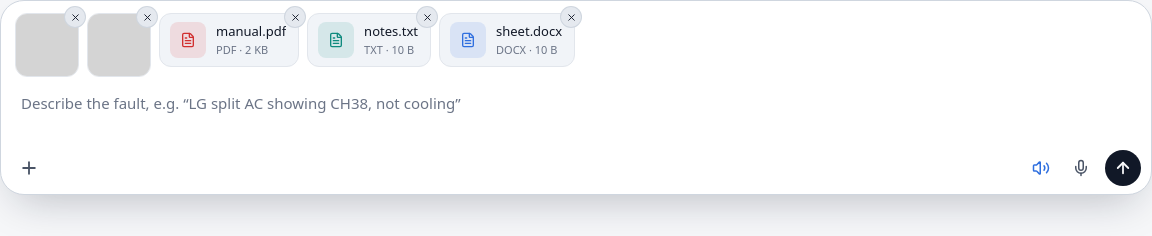
Test: attach menu › attaches several images and documents, shows them, removes one, and sends them
This screenshot has width=1152, height=236.
Earlier steps of the test are not shown.
expect the text "manual.pdf" is shown: met, box [216, 22, 286, 42]
expect the text "PDF · 2 KB" is shown: met, box [216, 42, 268, 56]
Click the button named "Remove notes.txt" at (427, 17), box [417, 7, 437, 27]
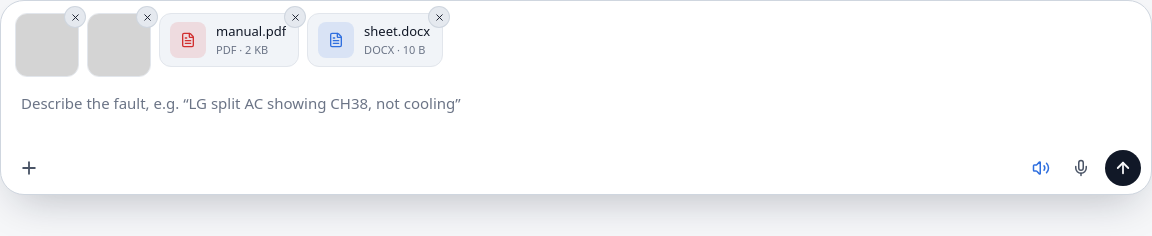
expect the text "notes.txt" is gone: met
Type "see attached" into the text box named "Describe the appliance issue" at (576, 116), box [9, 81, 1143, 150]
Then press Enter
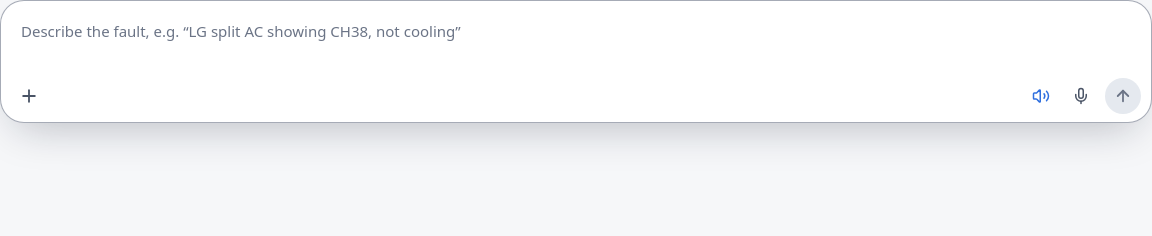
expect the text "manual.pdf" is gone: met
